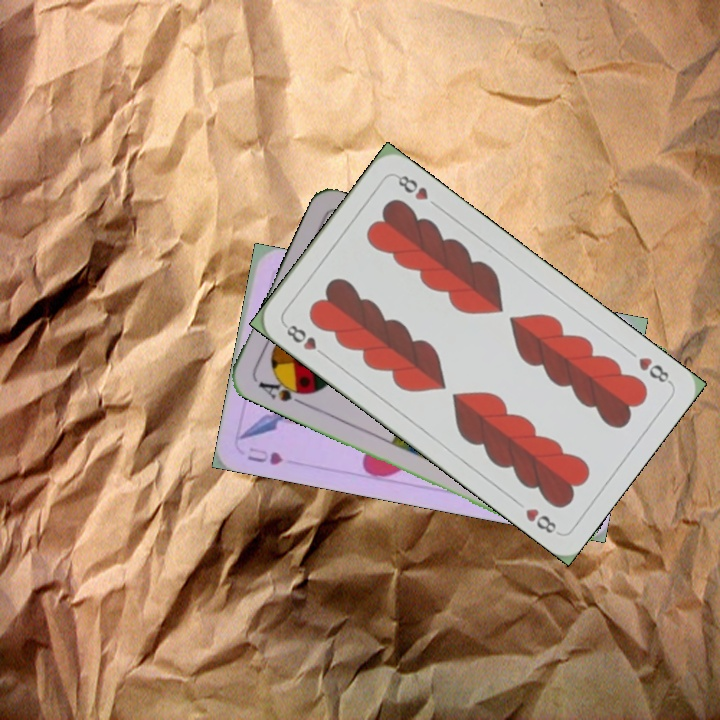H8: (280, 319, 330, 361), (634, 353, 675, 387)
HU: (244, 443, 286, 468)
SA: (254, 373, 313, 409)
